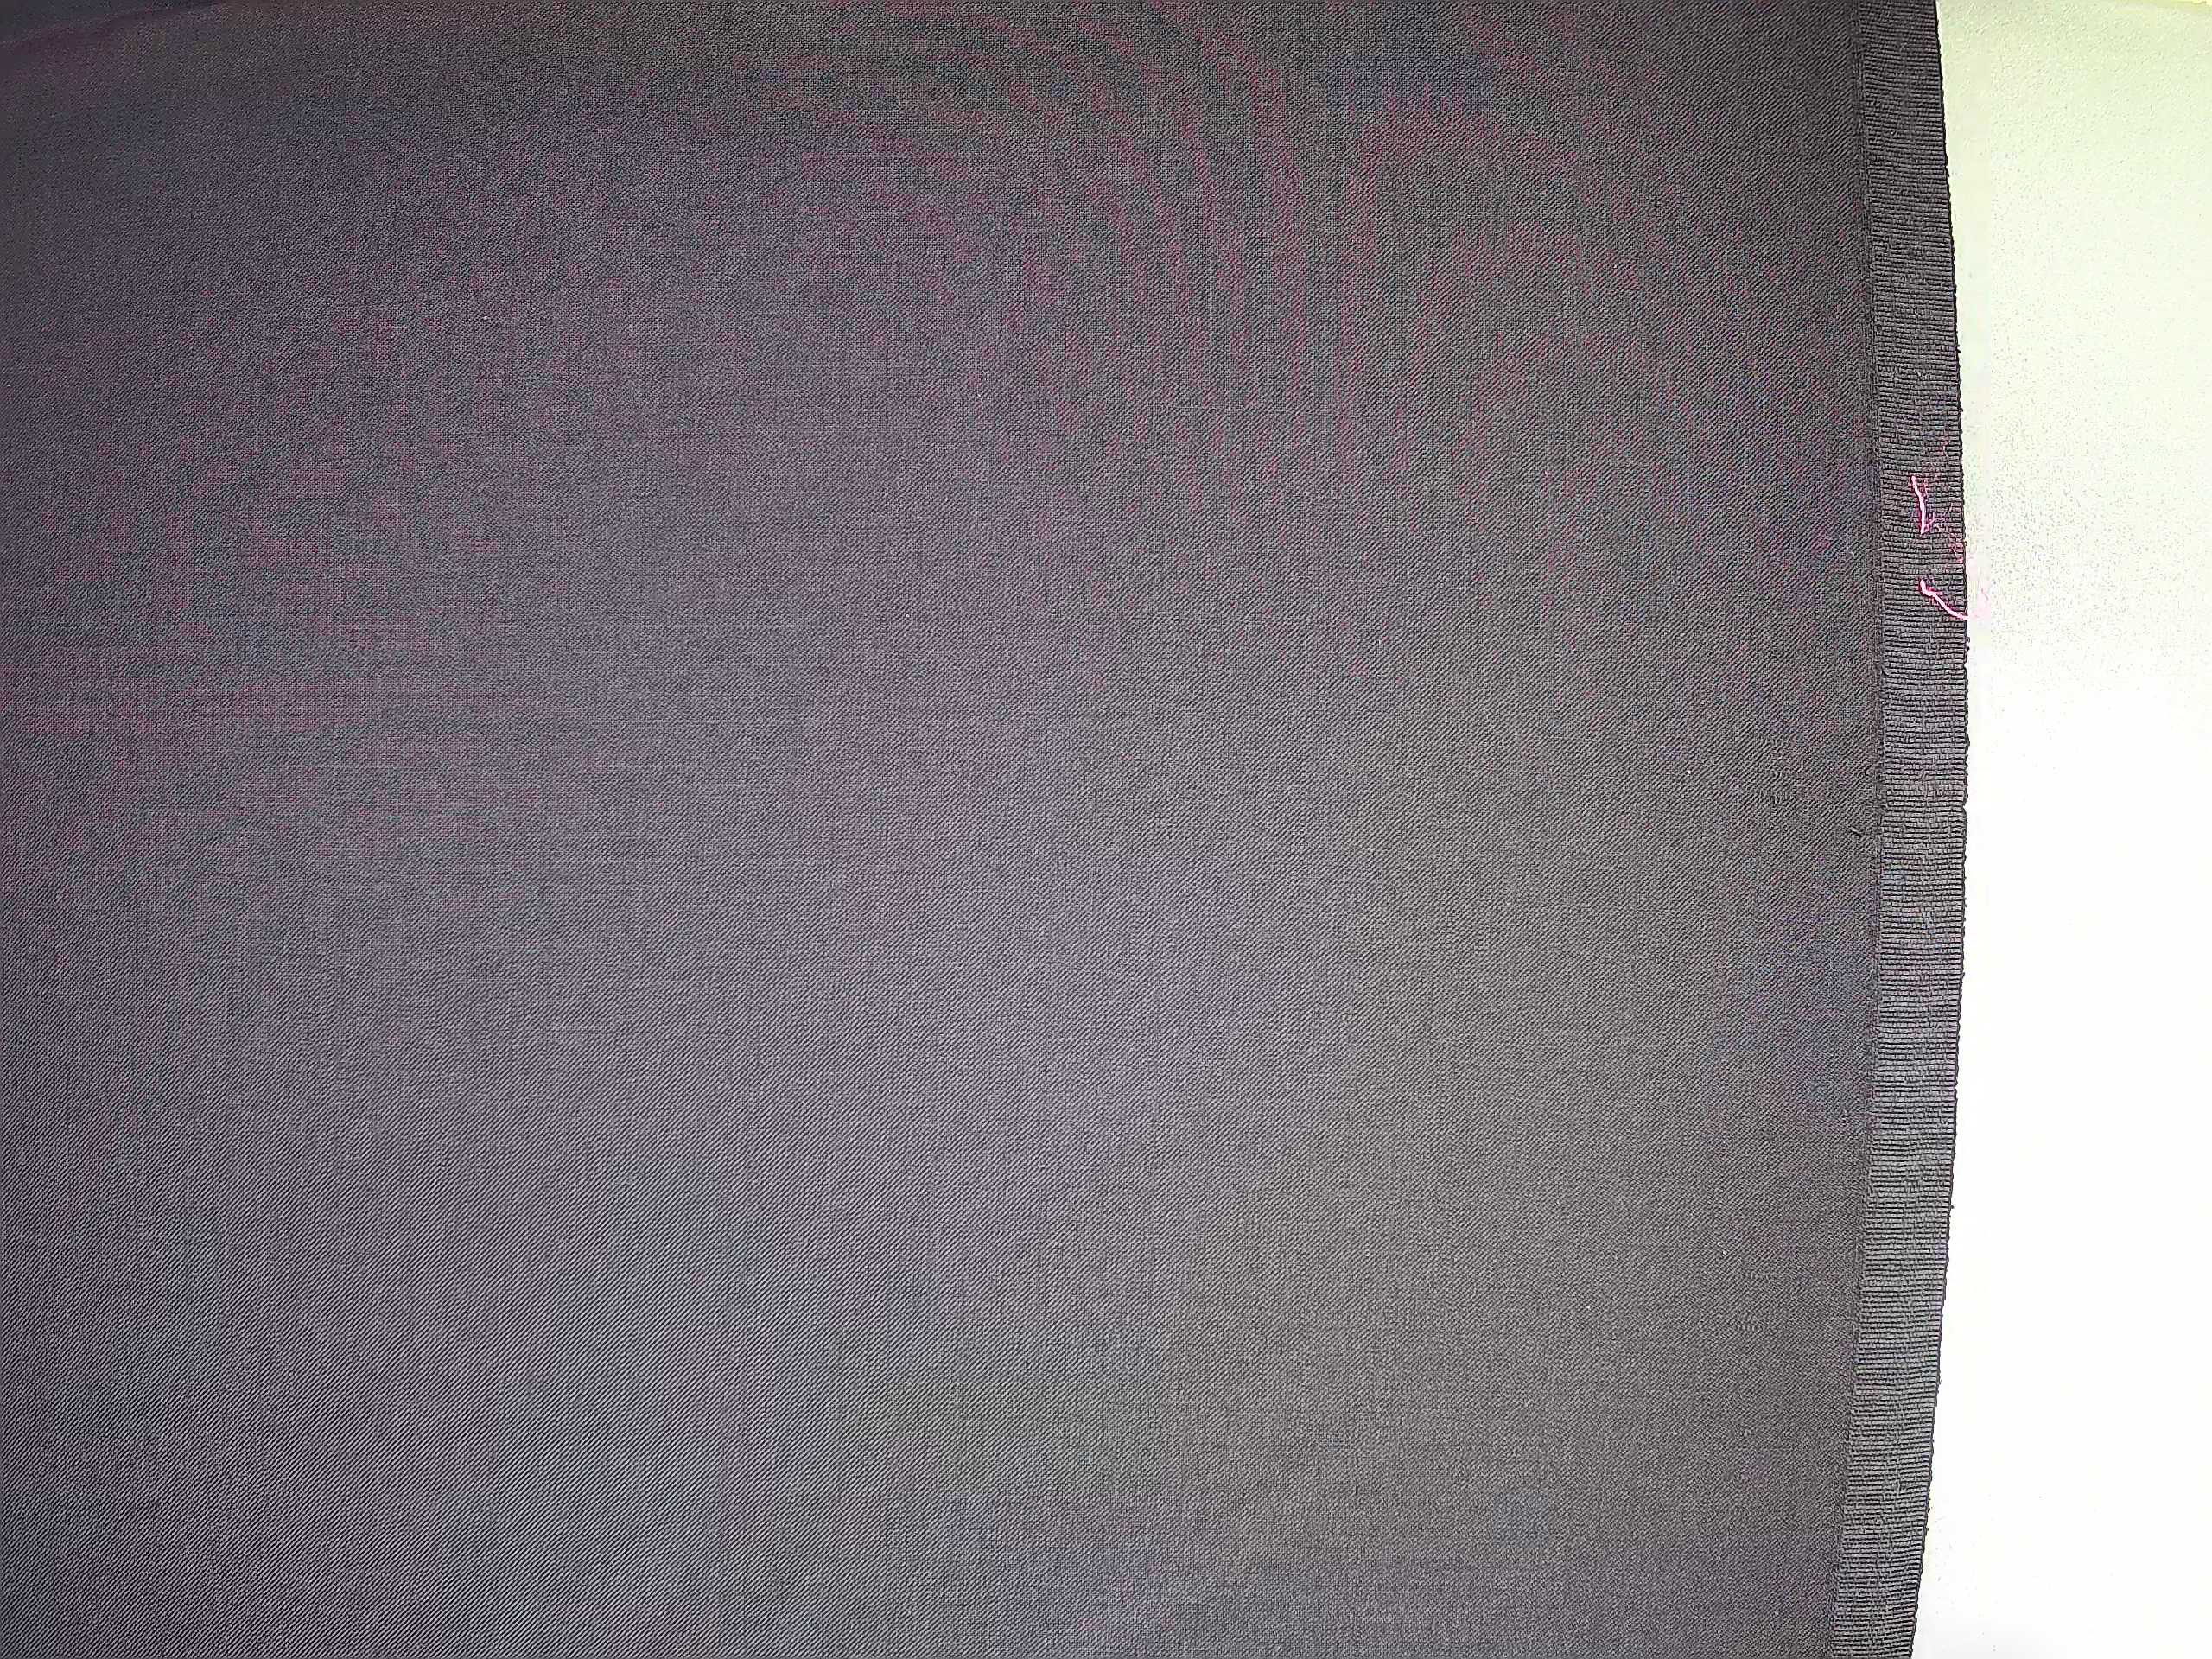jumps: (1745, 718, 1878, 855), (1720, 1264, 1785, 1346)
